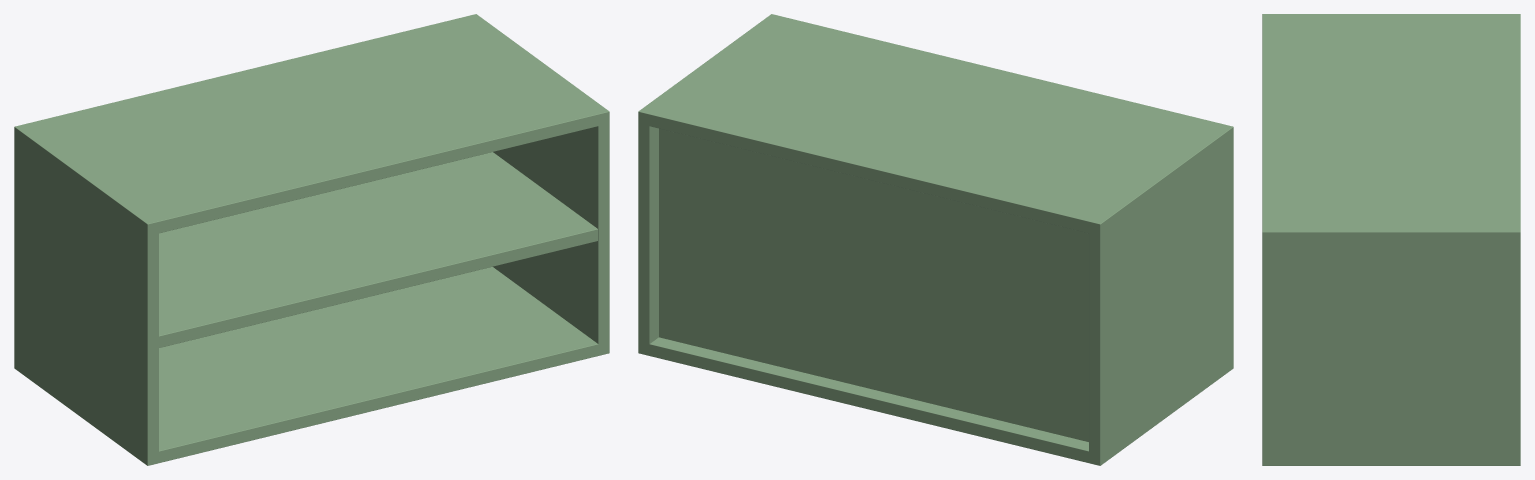
The model's file is MOD-2X1-S-B-SA.glb.
3 renders of one model, left to right at view 1: azimuth 30°, elevation 25°; view 2: azimuth 150°, elevation 25°; view 3: azimuth 270°, elevation 25°, orthographic. The views are drawn at different scales.
Bounding box in the file's own units: 720 × 360 × 360.
